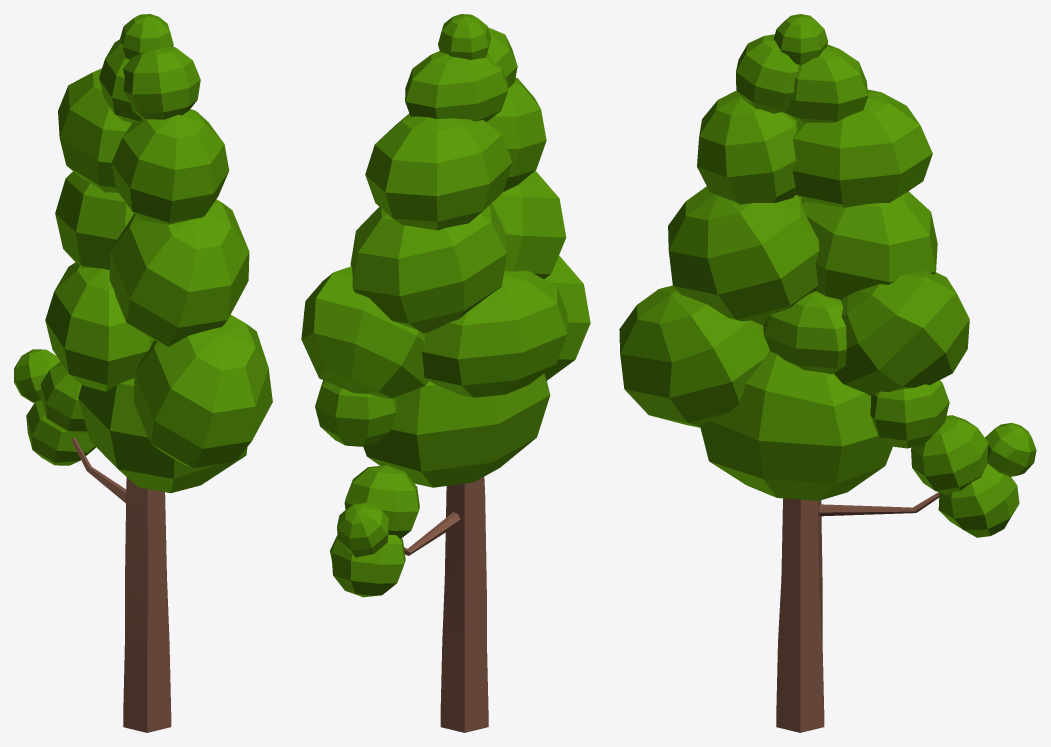
The model's file is ARbre-2-MAYA.fbx.
3 renders of one model, left to right at view 1: azimuth 30°, elevation 25°; view 2: azimuth 150°, elevation 25°; view 3: azimuth 270°, elevation 25°, orthographic.
Parts seen in each view (by area): view 1: polySurface28; view 2: polySurface28; view 3: polySurface28.
Part boxes in pixels (x1,y1,x2,y2): polySurface28: (14,14,272,732); polySurface28: (301,14,590,732); polySurface28: (619,14,1036,732).
Size of the model in its own units: 7.93 by 28.03 by 15.04.
